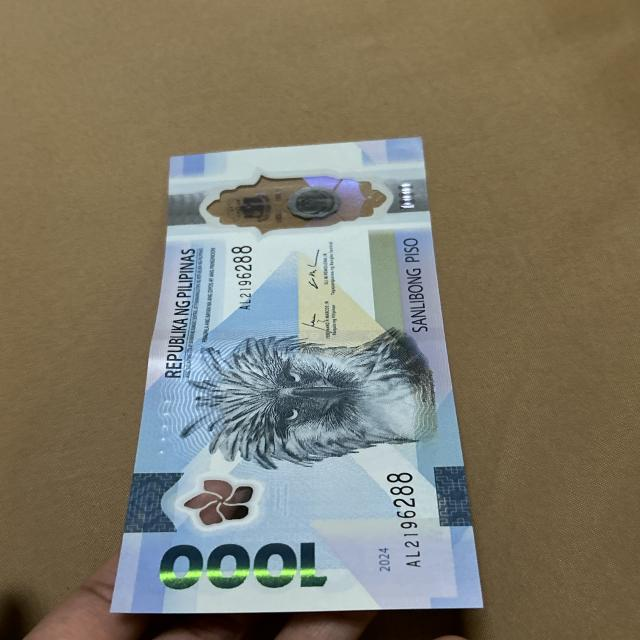clear_window: (192, 170, 397, 232)
eagle: (186, 342, 420, 466)
sampaguita: (182, 482, 255, 528)
serial_number: (372, 460, 430, 579), (211, 234, 269, 332)
